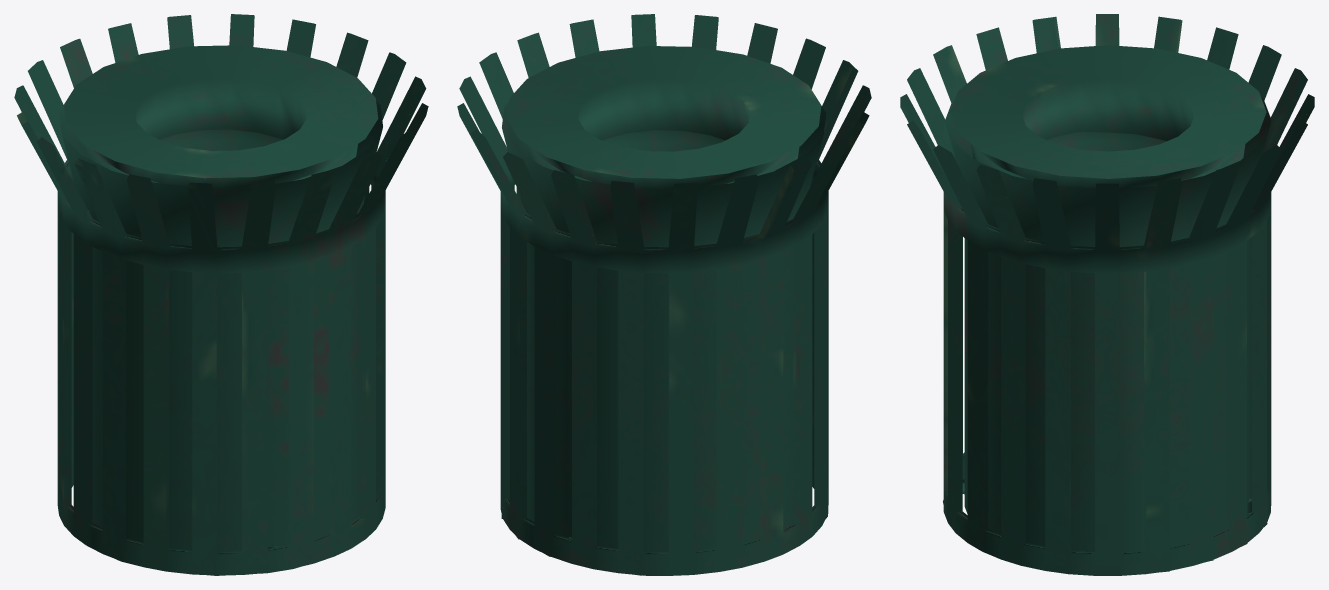
Rendered from trash_can.glb.
3 renders of one model, left to right at view 1: azimuth 30°, elevation 25°; view 2: azimuth 150°, elevation 25°; view 3: azimuth 270°, elevation 25°, orthographic.
Parts seen in each view (by area): view 1: trash_can; view 2: trash_can; view 3: trash_can.
Part boxes in pixels (x1,y1,x2,y2): trash_can: (14, 14, 428, 575); trash_can: (457, 14, 871, 575); trash_can: (900, 14, 1314, 575).
Bounding box in the file's own units: 0.8804 × 0.9558 × 0.8804.
Materials: 1 (1 with a texture image).
